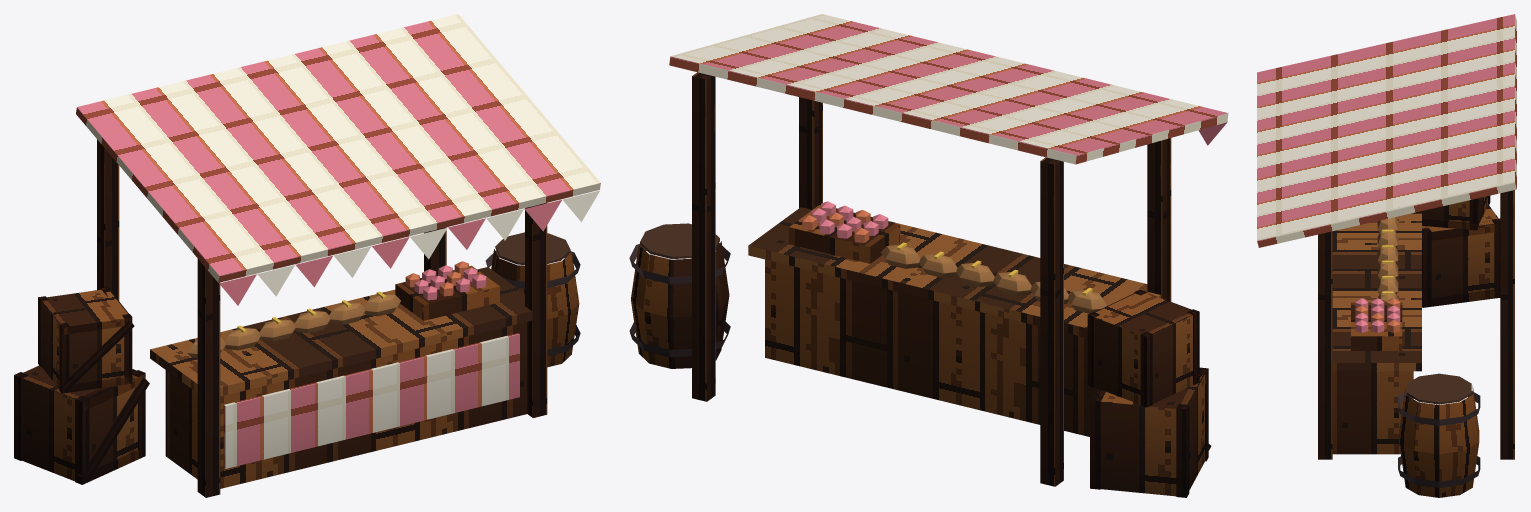
The model's file is market_stall.glb.
The picture shows the model from 3 angles, left to right: view 1: azimuth 30°, elevation 25°; view 2: azimuth 150°, elevation 25°; view 3: azimuth 270°, elevation 25°; orthographic projection. The views are drawn at different scales.
Visible parts, largest first — view 1: market_stall; view 2: market_stall; view 3: market_stall.
Part boxes in pixels (left/top/right/bottom): market_stall: left=14, top=14, right=600, bottom=497; market_stall: left=629, top=14, right=1228, bottom=497; market_stall: left=1257, top=14, right=1516, bottom=497.
Bounding box in the file's own units: 4.94 × 2.77 × 2.28.
3 materials, 2 textured.
